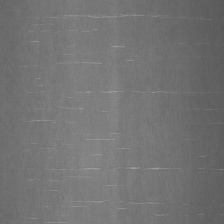waist_folding: (20, 17, 224, 214)
